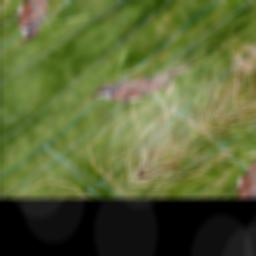Cuckoo: (84, 34, 203, 126)
